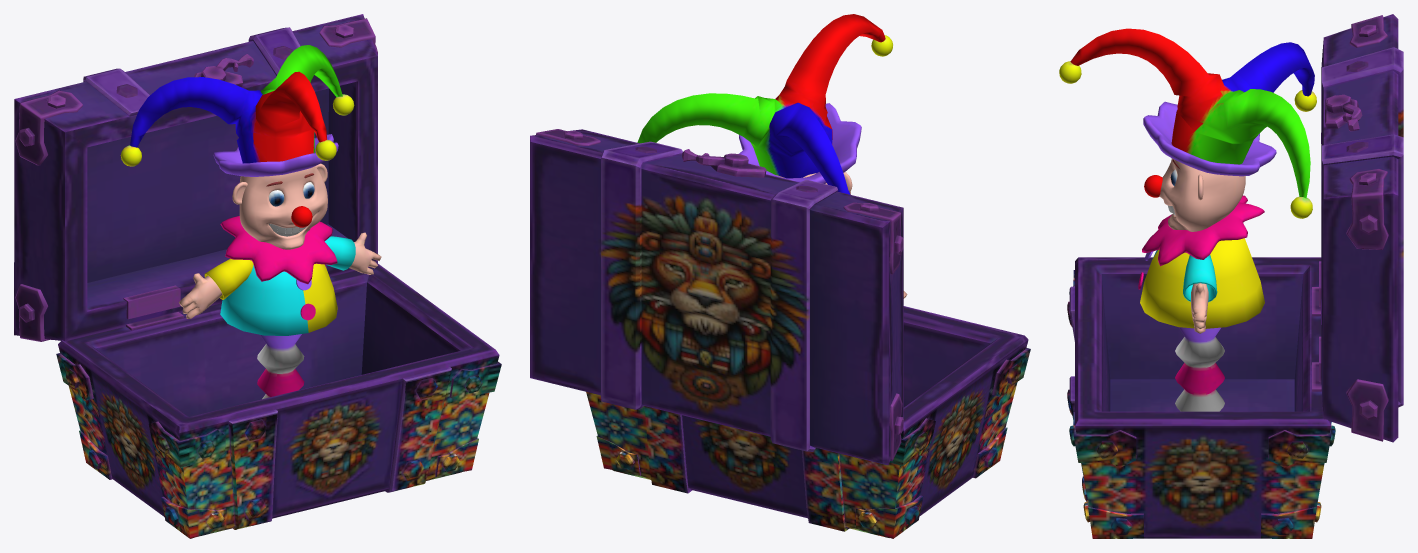
File: Clown Surprise Music Box.fbx
3 renders of one model, left to right at view 1: azimuth 30°, elevation 25°; view 2: azimuth 150°, elevation 25°; view 3: azimuth 270°, elevation 25°, orthographic. The views are drawn at different scales.
Visible parts, largest first — view 1: Clown Surprise Music Box; view 2: Clown Surprise Music Box; view 3: Clown Surprise Music Box.
Part boxes in pixels (x1,y1,x2,y2): Clown Surprise Music Box: (14, 14, 501, 538); Clown Surprise Music Box: (530, 14, 1030, 538); Clown Surprise Music Box: (1059, 14, 1403, 538).
Bounding box in the file's own units: 29.69 × 33.37 × 23.67.
1 material, 1 textured.
